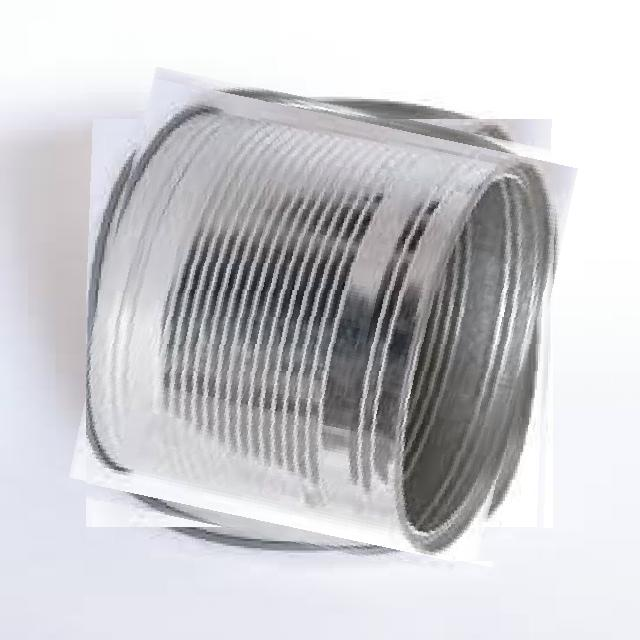recyclable: (86, 88, 560, 562)
